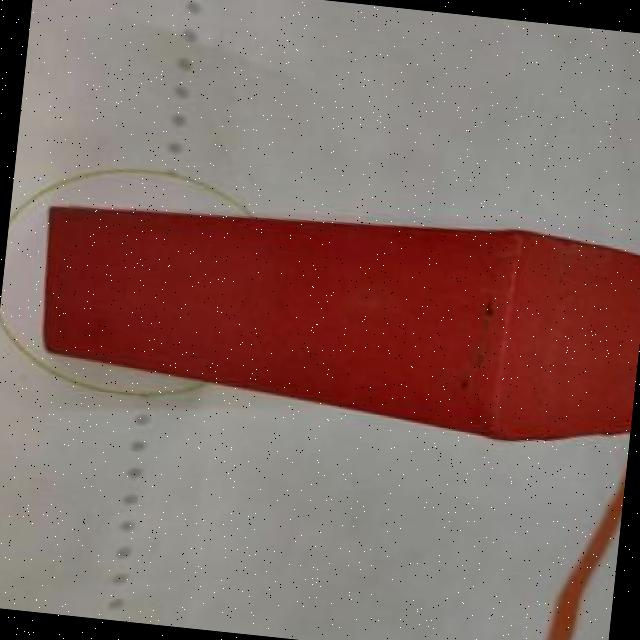redbox: (26, 179, 640, 454)
